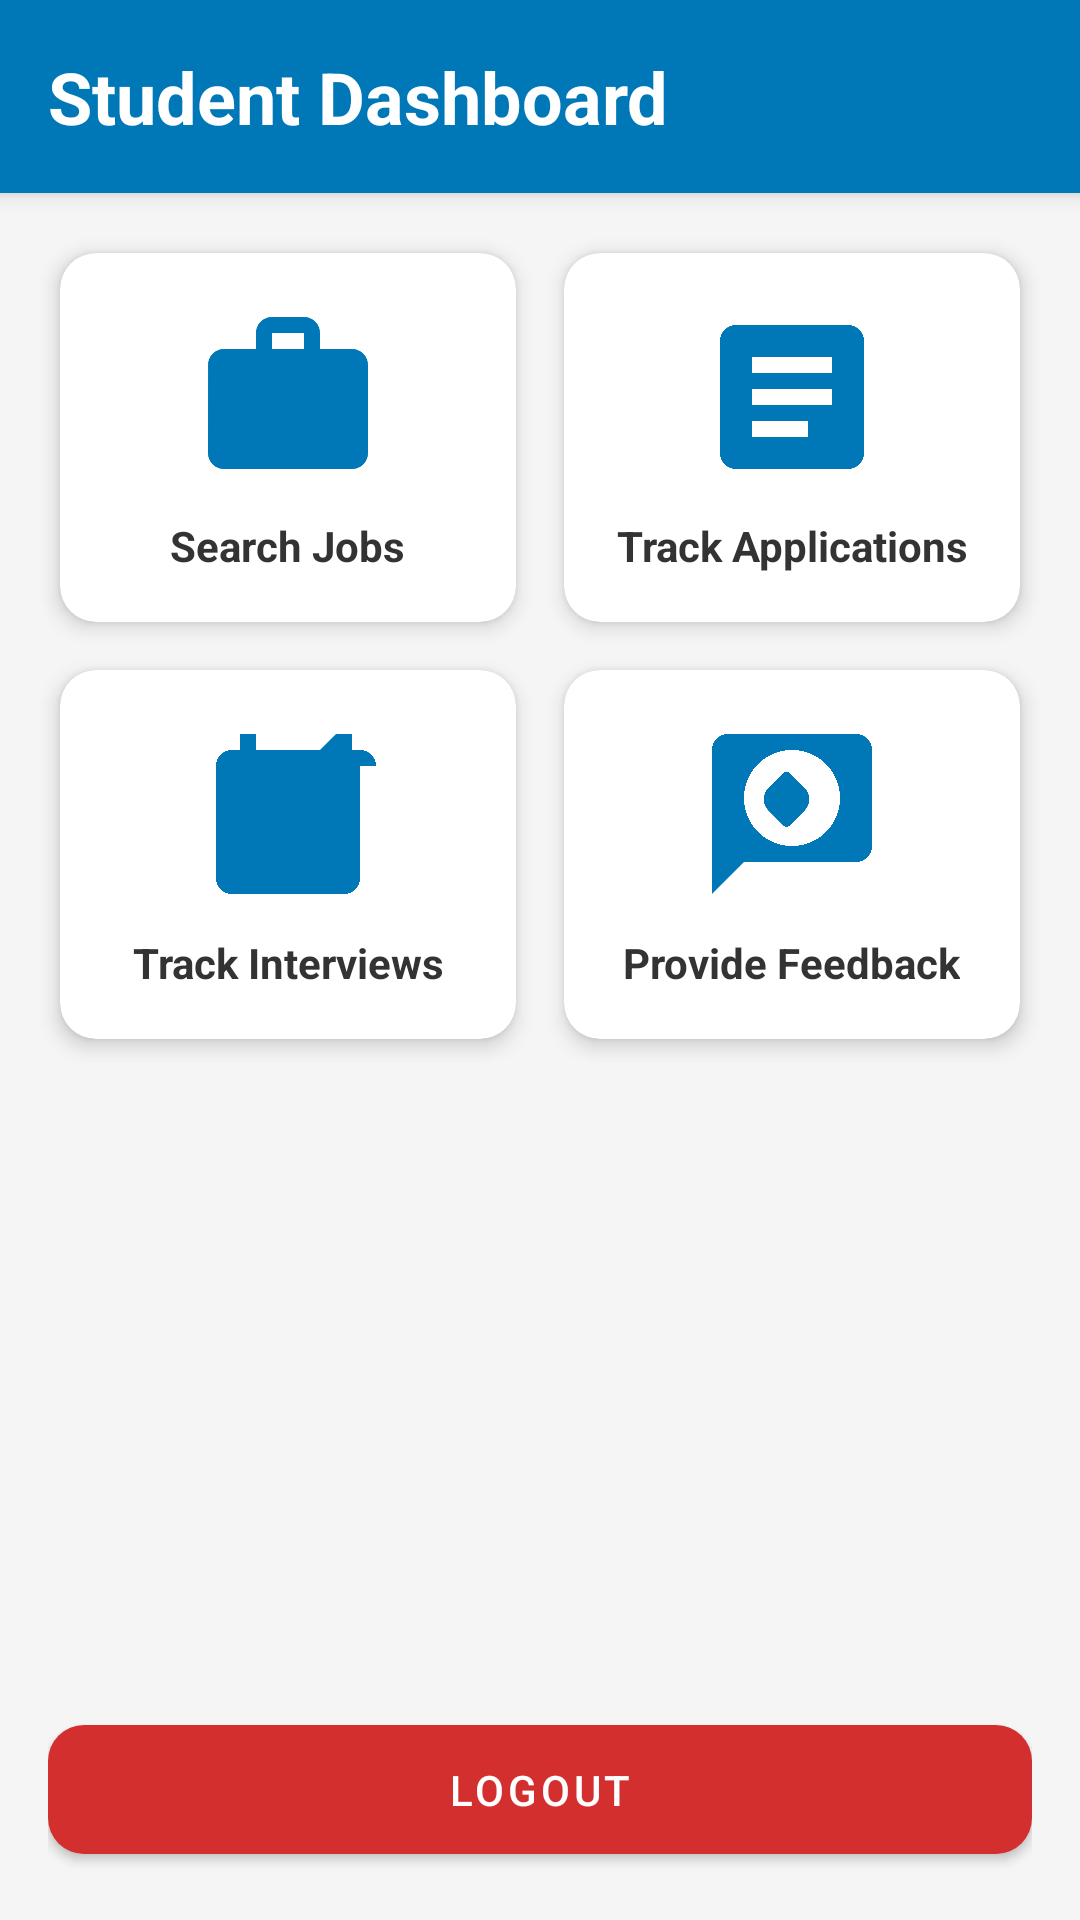

Icons on this 1080px×1920px Android screen, each with its box as (x1,y1,x2,y2):
manage applications: (720,325,864,469)
manage feedbacks: (712,734,872,894)
manage interviews: (216,734,376,894)
manage jobs: (208,317,368,469)
